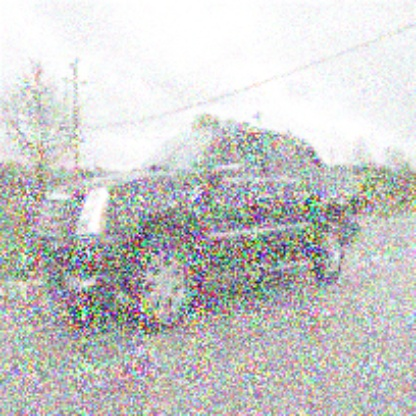Vehicle: (33, 125, 364, 336)
